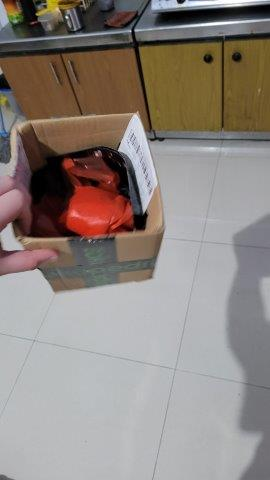kardus: (6, 112, 167, 293)
